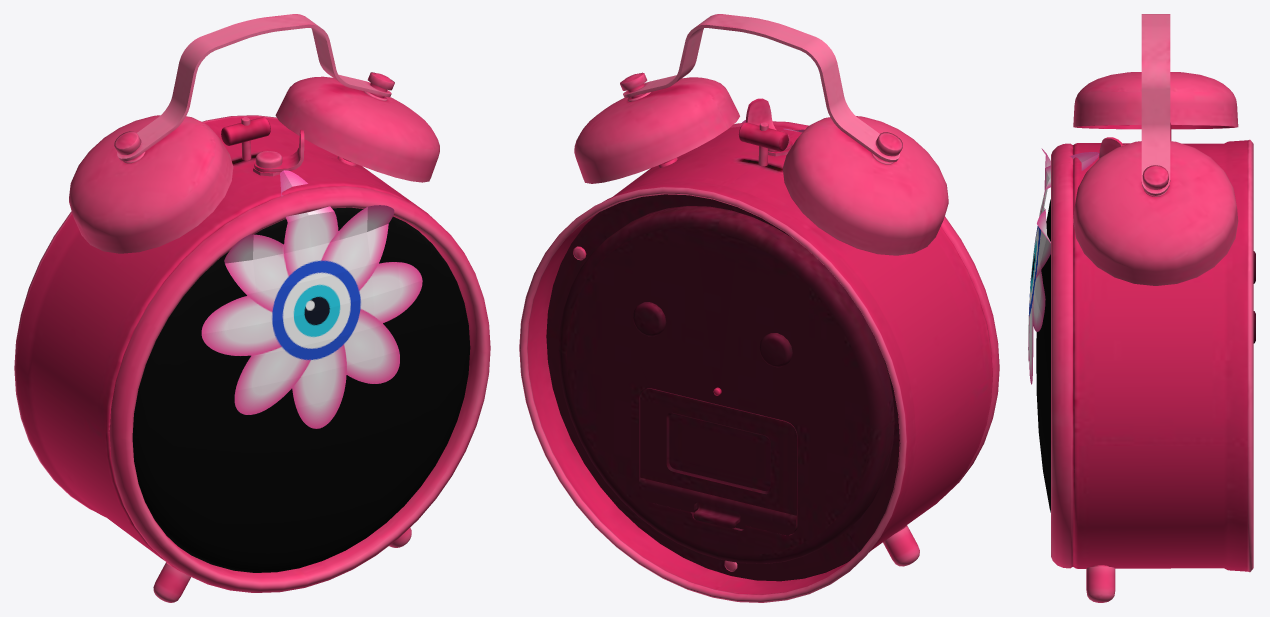
The model's file is nyb_big_alarm.glb.
3 views of the same model, side by side, from view 1: azimuth 30°, elevation 25°; view 2: azimuth 150°, elevation 25°; view 3: azimuth 270°, elevation 25° (orthographic). The views are drawn at different scales.
Parts seen in each view (by area): view 1: alarm_clock_01, stk_eyeflower.png; view 2: alarm_clock_01; view 3: alarm_clock_01, stk_eyeflower.png.
Part boxes in pixels (x1,y1,x2,y2): alarm_clock_01: [14, 14, 490, 602]; stk_eyeflower.png: [201, 170, 422, 428]; alarm_clock_01: [519, 14, 999, 602]; alarm_clock_01: [1036, 14, 1255, 602]; stk_eyeflower.png: [1028, 148, 1099, 384].
Bounding box in the file's own units: 0.1317 × 0.1742 × 0.0692.
Materials: 3 (3 with a texture image).
